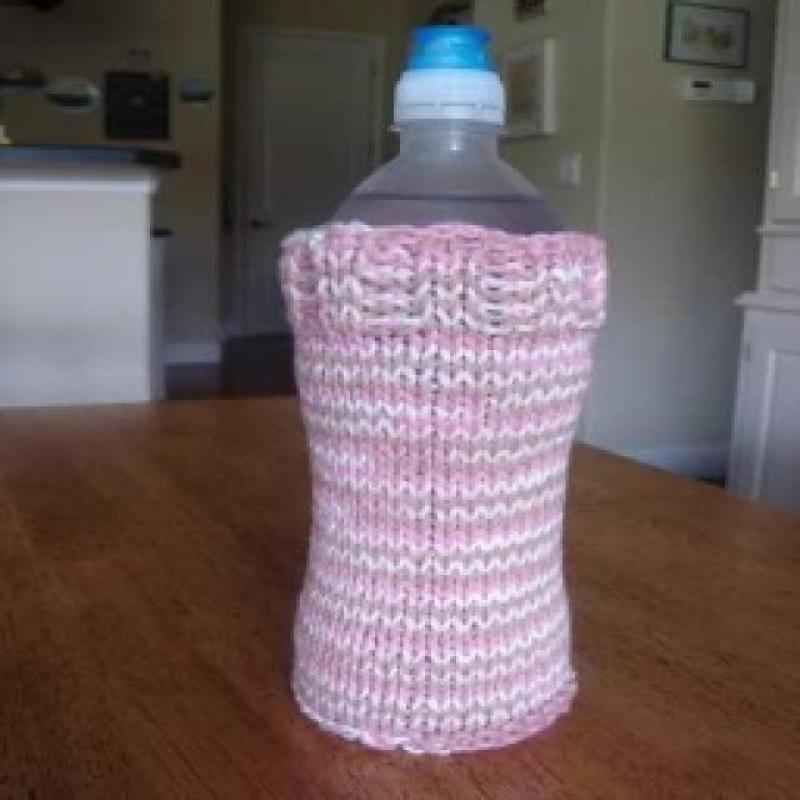botella: (319, 22, 566, 238)
